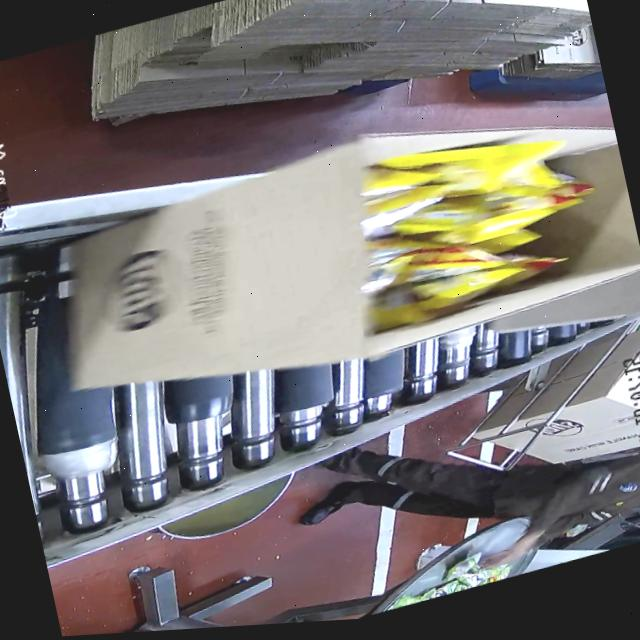SALTED: (341, 117, 608, 334)
